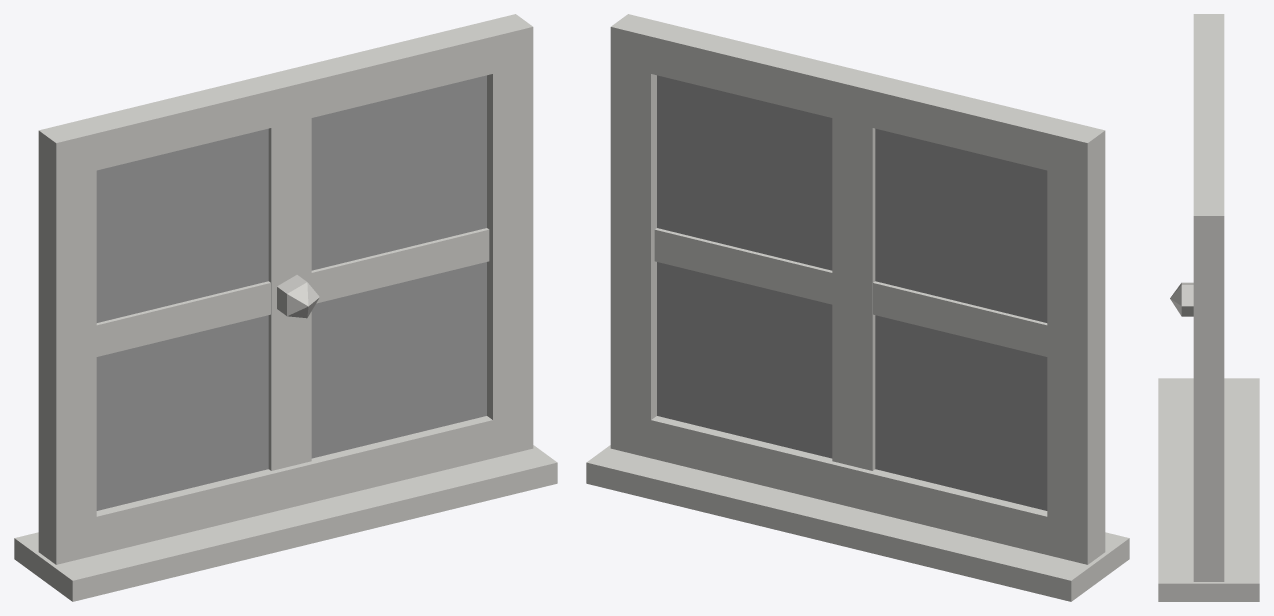
The model's file is Window_2C.fbx.
3 renders of one model, left to right at view 1: azimuth 30°, elevation 25°; view 2: azimuth 150°, elevation 25°; view 3: azimuth 270°, elevation 25°, orthographic. The views are drawn at different scales.
Visible parts, largest first — view 1: polySurface1841, Window_Glass_2; view 2: polySurface1841, Window_Glass_2; view 3: polySurface1841.
Boxes of the visible parts, <box> form: polySurface1841: <box>14,14,557,601</box>; Window_Glass_2: <box>96,75,486,510</box>; polySurface1841: <box>586,14,1129,601</box>; Window_Glass_2: <box>657,75,1047,510</box>; polySurface1841: <box>1158,14,1259,601</box>.
Size of the model in its own units: 2.4 by 2.09 by 0.5.
2 materials, 1 textured.
